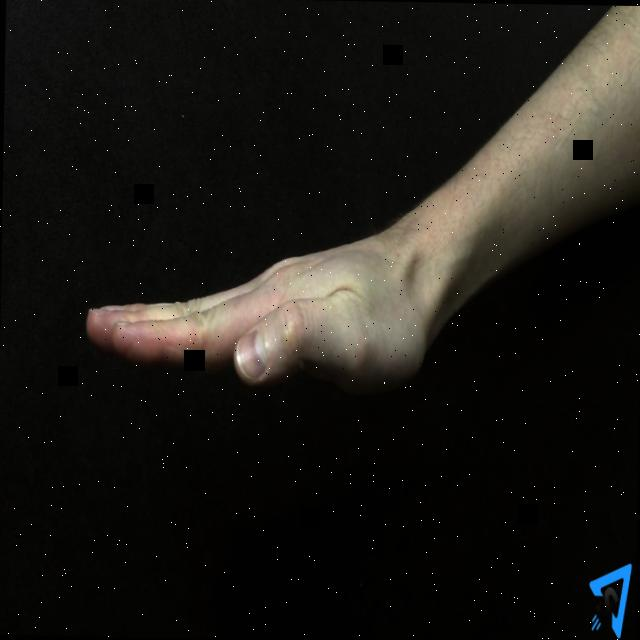Paper: (80, 234, 433, 394)
